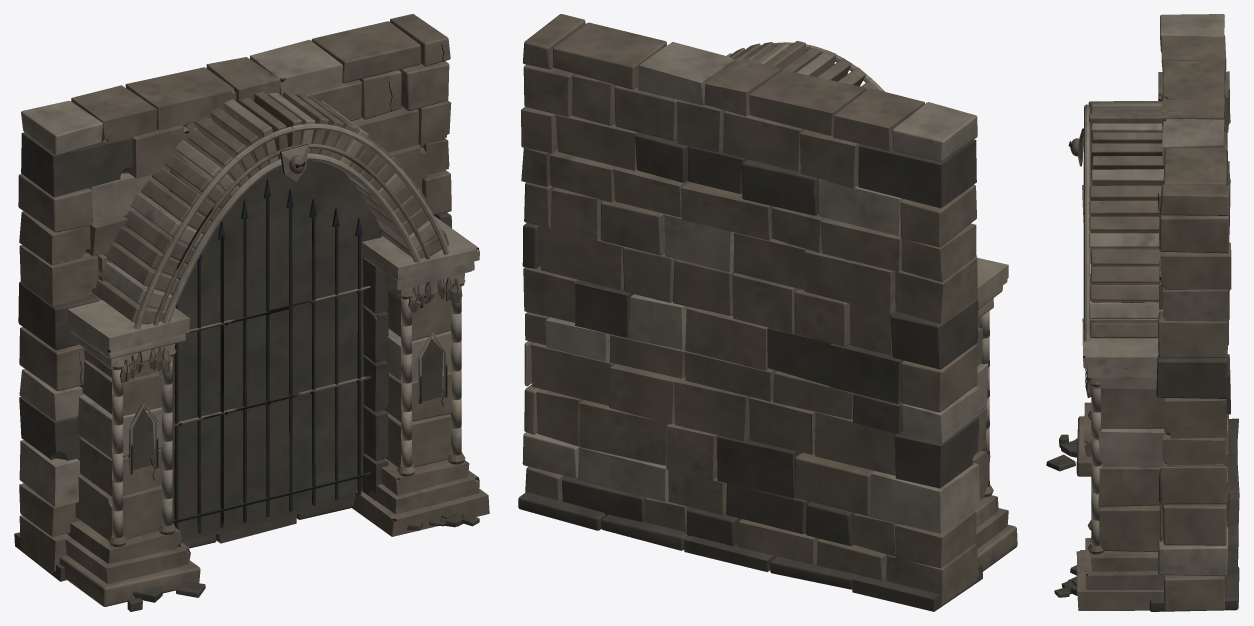
The model's file is wall-bay.glb.
3 renders of one model, left to right at view 1: azimuth 30°, elevation 25°; view 2: azimuth 150°, elevation 25°; view 3: azimuth 270°, elevation 25°, orthographic. The views are drawn at different scales.
Parts seen in each view (by area): view 1: Body_Baked.003; view 2: Body_Baked.003; view 3: Body_Baked.003.
Boxes of the visible parts, box(x1,y1,x2,y2) form: Body_Baked.003: box(14, 14, 489, 611); Body_Baked.003: box(518, 14, 1017, 611); Body_Baked.003: box(1046, 14, 1239, 611).
Bounding box in the file's own units: 4.65 × 4.98 × 2.07.
Materials: 1 (1 with a texture image).
